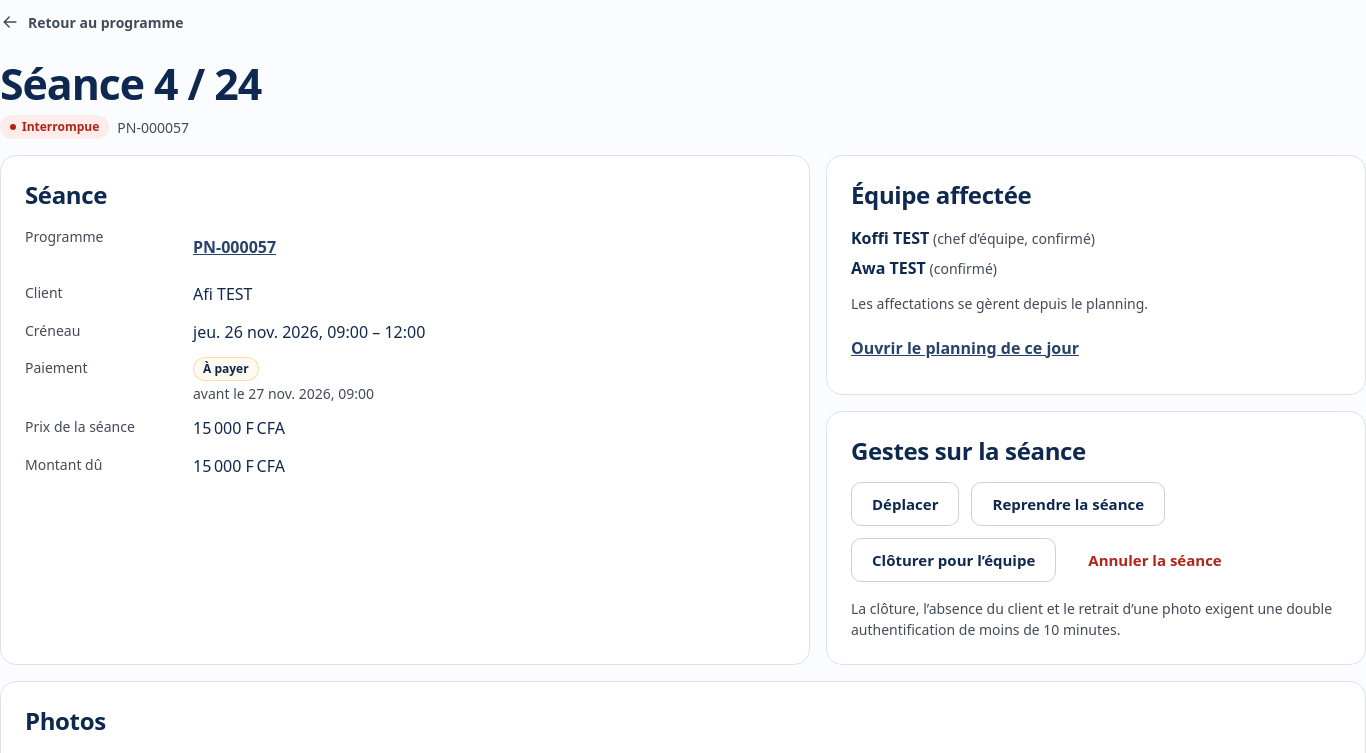
it: séance : gestes › reprendre une séance interrompue, motif facultatif
Expected: the button "Clôturer pour l’équipe" is shown, x1=851 y1=538 x2=1056 y2=582
Expected: the button "Client absent" is not shown
Click the button "Reprendre la séance".
click(1068, 504)  # box x1=972 y1=482 x2=1165 y2=526
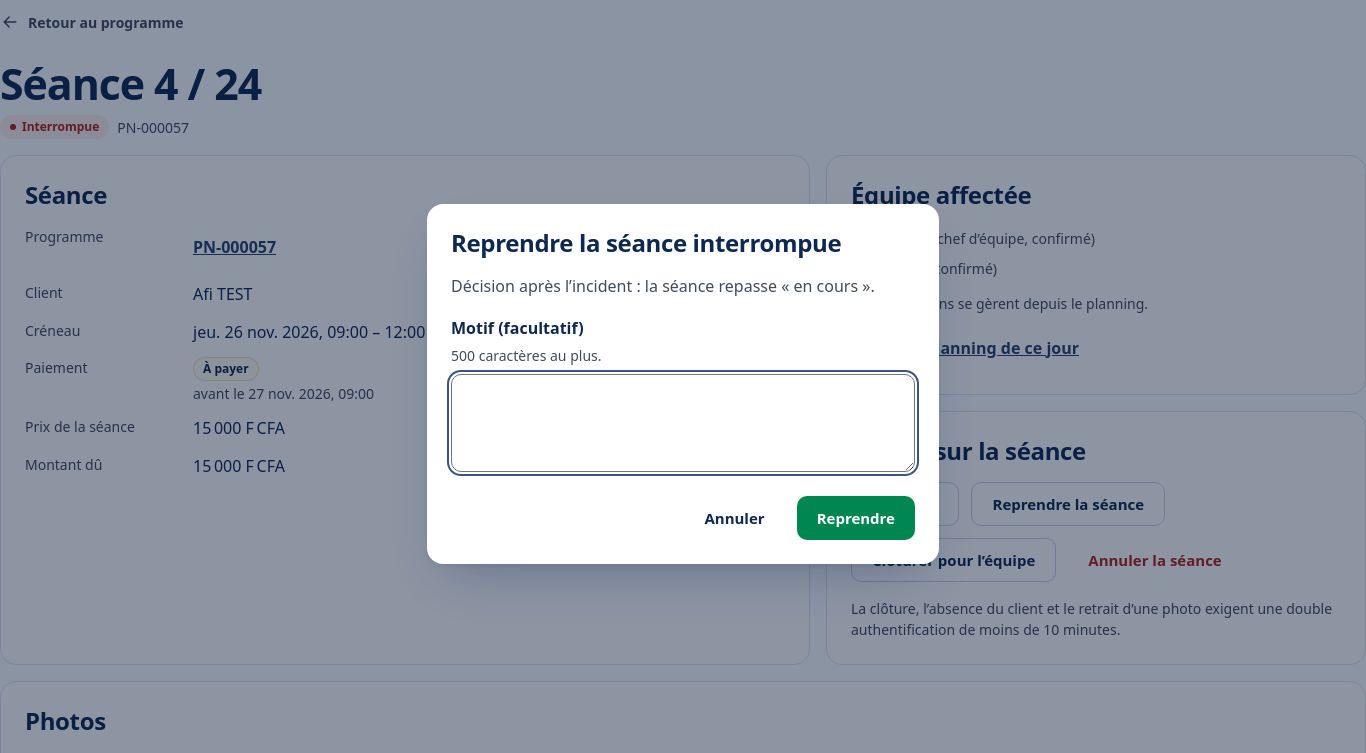
Click the button "Reprendre".
click(856, 518)  # box x1=797 y1=496 x2=915 y2=540
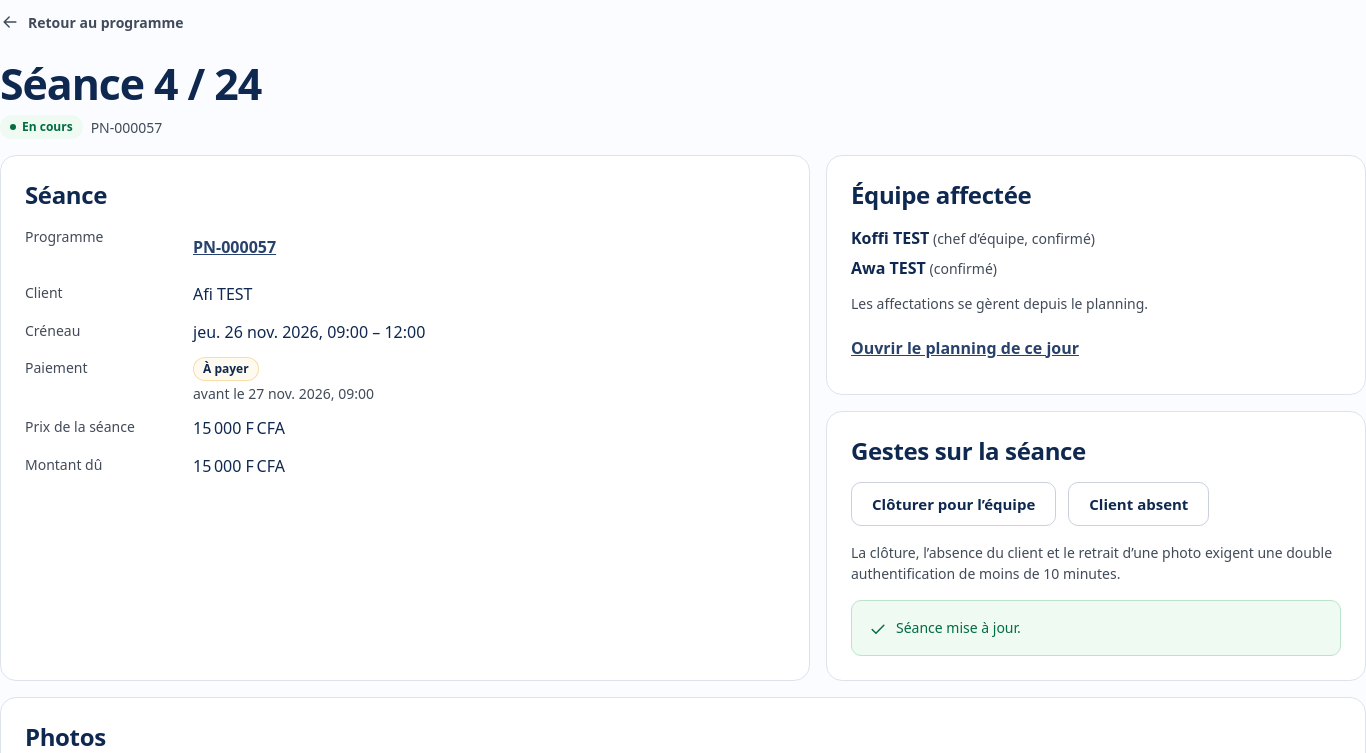
Now the text "Séance mise à jour." is shown, box x1=896 y1=617 x2=1021 y2=638
Now the button "Reprendre la séance" is gone
